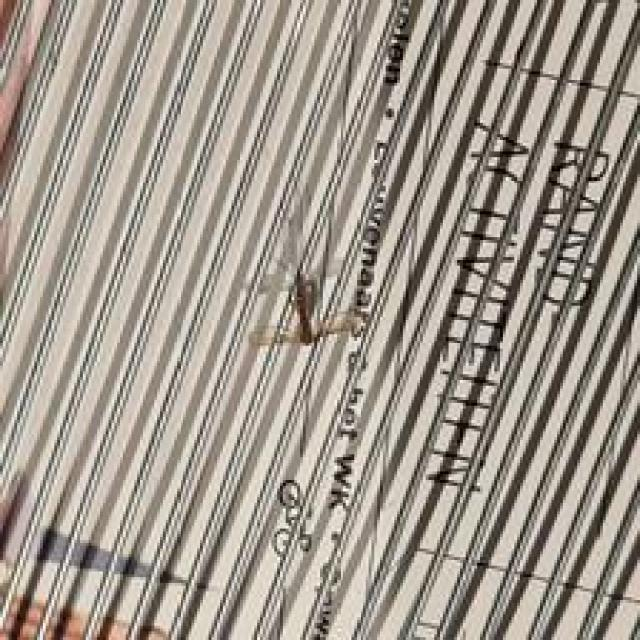Culex: (247, 197, 367, 352)
